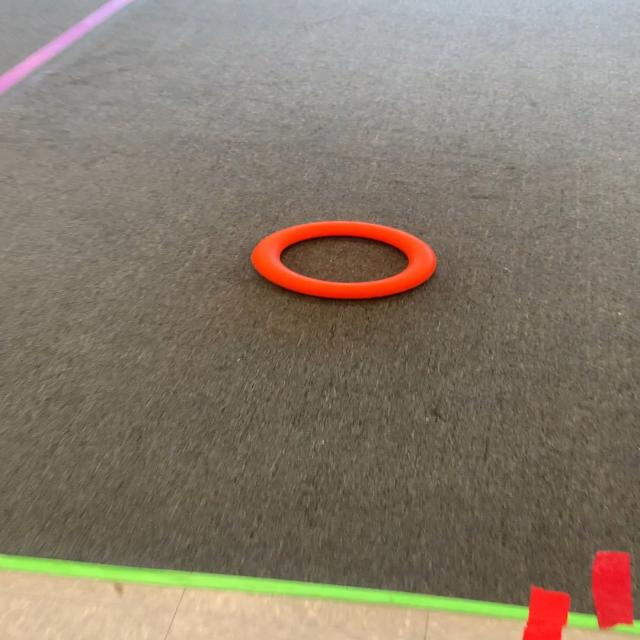notes: (253, 220, 438, 302)
